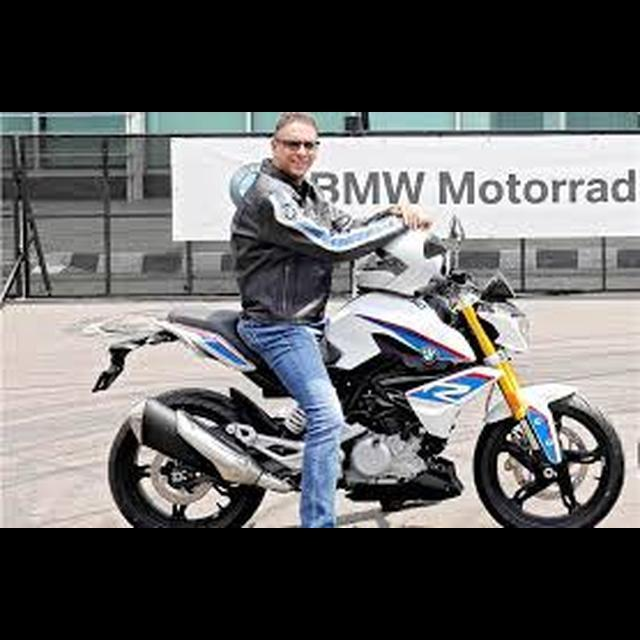motorcycle: (55, 209, 629, 529)
